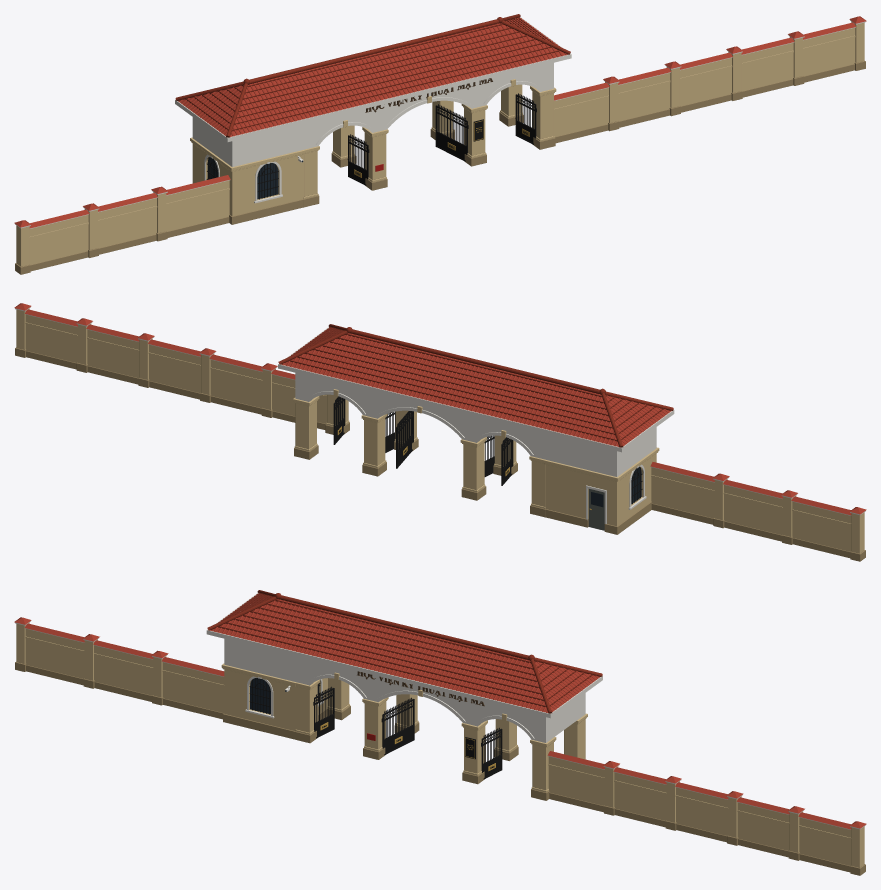
Rendered from KMA_Gate_mo.glb.
3 renders of one model, top to bottom at view 1: azimuth 30°, elevation 25°; view 2: azimuth 150°, elevation 25°; view 3: azimuth 330°, elevation 25°, orthographic.
Visible parts, largest first — view 1: KMA_Roof, KMA_Wall_Right, KMA_Structure, KMA_Wall_Left, KMA_Guardhouse, KMA_Gate_C_Right, KMA_Gate_R_Right, KMA_Gate_L_Right, KMA_Signage; view 2: KMA_Roof, KMA_Wall_Right, KMA_Structure, KMA_Wall_Left, KMA_Guardhouse, KMA_Gate_C_Right, KMA_Gate_R_Right, KMA_Gate_L_Right; view 3: KMA_Roof, KMA_Wall_Right, KMA_Structure, KMA_Wall_Left, KMA_Guardhouse, KMA_Gate_C_Left, KMA_Gate_L_Left, KMA_Gate_R_Left, KMA_Signage.
Part boxes in pixels (x1=…): KMA_Roof: x1=175, y1=14, x2=571, y2=142; KMA_Wall_Right: x1=554, y1=16, x2=866, y2=143; KMA_Structure: x1=303, y1=63, x2=556, y2=207; KMA_Wall_Left: x1=14, y1=175, x2=230, y2=274; KMA_Guardhouse: x1=190, y1=117, x2=304, y2=224; KMA_Gate_C_Right: x1=435, y1=104, x2=468, y2=161; KMA_Gate_R_Right: x1=515, y1=93, x2=536, y2=144; KMA_Gate_L_Right: x1=347, y1=134, x2=369, y2=185; KMA_Signage: x1=365, y1=78, x2=492, y2=171; KMA_Roof: x1=278, y1=324, x2=674, y2=452; KMA_Wall_Right: x1=14, y1=303, x2=326, y2=429; KMA_Structure: x1=293, y1=372, x2=545, y2=517; KMA_Wall_Left: x1=650, y1=462, x2=866, y2=561; KMA_Guardhouse: x1=544, y1=427, x2=659, y2=534; KMA_Gate_C_Right: x1=396, y1=411, x2=413, y2=468; KMA_Gate_R_Right: x1=333, y1=396, x2=345, y2=444; KMA_Gate_L_Right: x1=501, y1=437, x2=513, y2=485; KMA_Roof: x1=206, y1=590, x2=602, y2=718; KMA_Wall_Right: x1=547, y1=751, x2=866, y2=875; KMA_Structure: x1=294, y1=656, x2=587, y2=800; KMA_Wall_Left: x1=14, y1=617, x2=224, y2=719; KMA_Guardhouse: x1=221, y1=638, x2=327, y2=739; KMA_Gate_C_Left: x1=381, y1=697, x2=414, y2=755; KMA_Gate_L_Left: x1=313, y1=686, x2=334, y2=738; KMA_Gate_R_Left: x1=481, y1=727, x2=502, y2=779; KMA_Signage: x1=357, y1=671, x2=484, y2=759.
Bounding box in the file's own units: 49.46 × 6.85 × 5.34.
